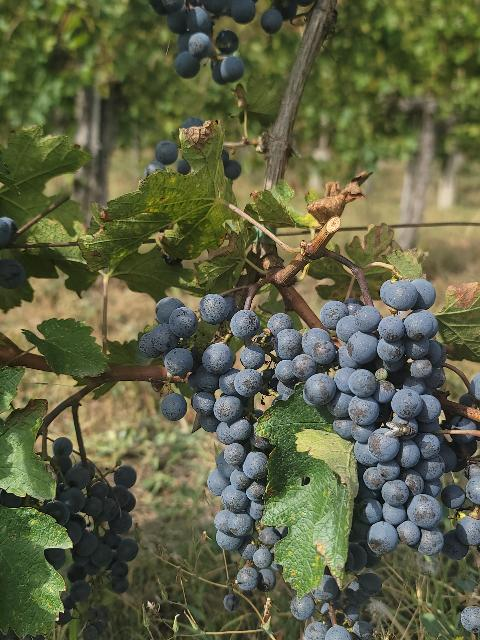grapes: (139, 298, 336, 550), (320, 279, 446, 555), (188, 341, 271, 550), (59, 462, 139, 592), (41, 439, 98, 555), (441, 409, 480, 559), (140, 299, 198, 378)
